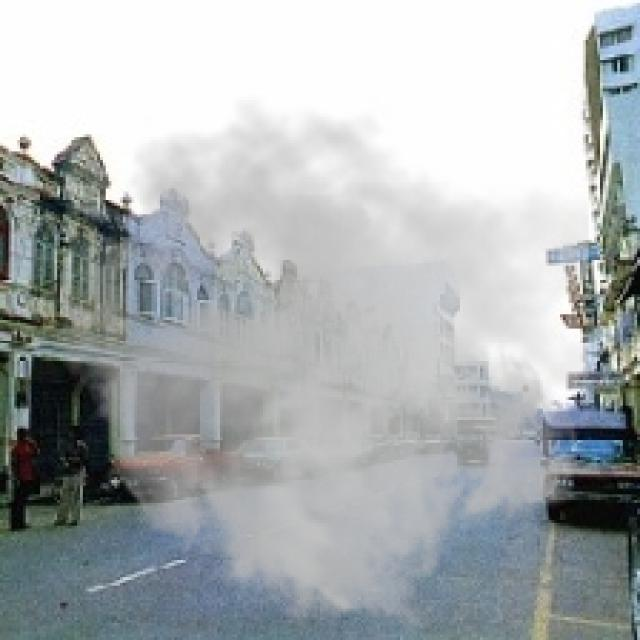smoke: (51, 94, 588, 637)
